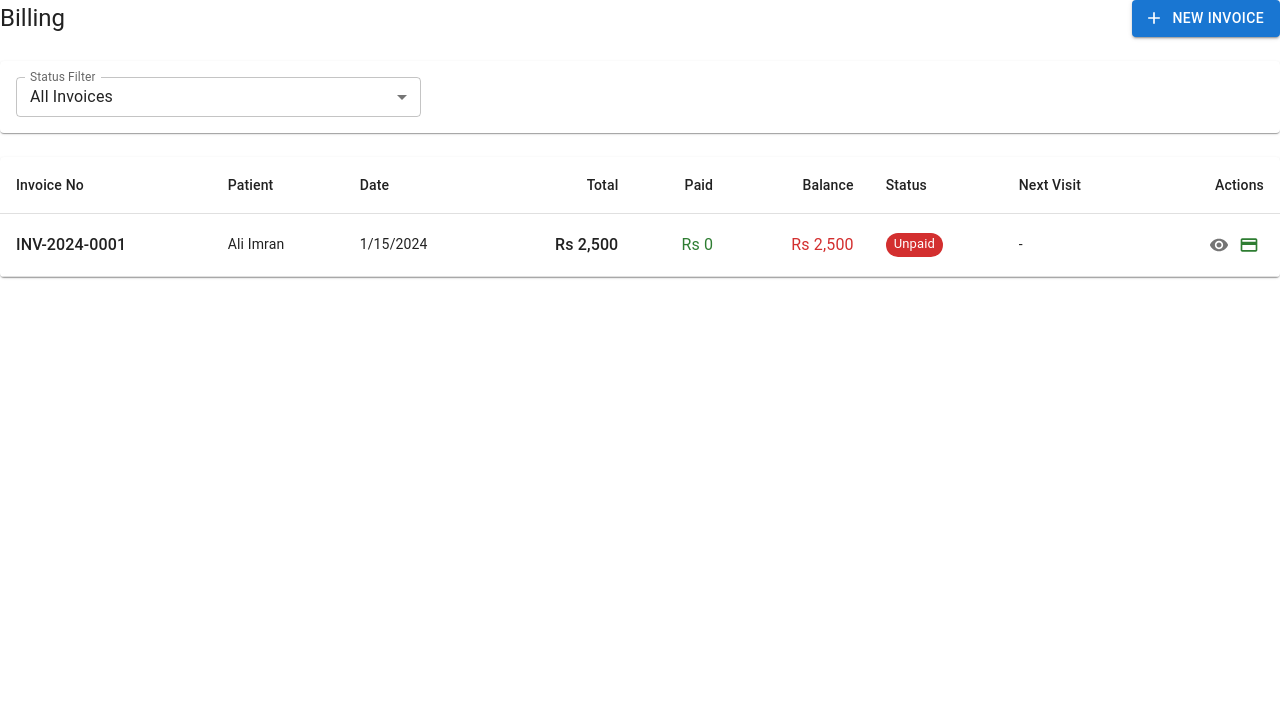
Test: Invoice Workflow Integration Tests › View Invoice Details › should open invoice details dialog when clicking view button
Expected: the text "INV-2024-0001" is shown, [16,234,126,254]
Click view button
Click the button named "view invoice".
click(1219, 244)  # box [1204,230,1234,260]
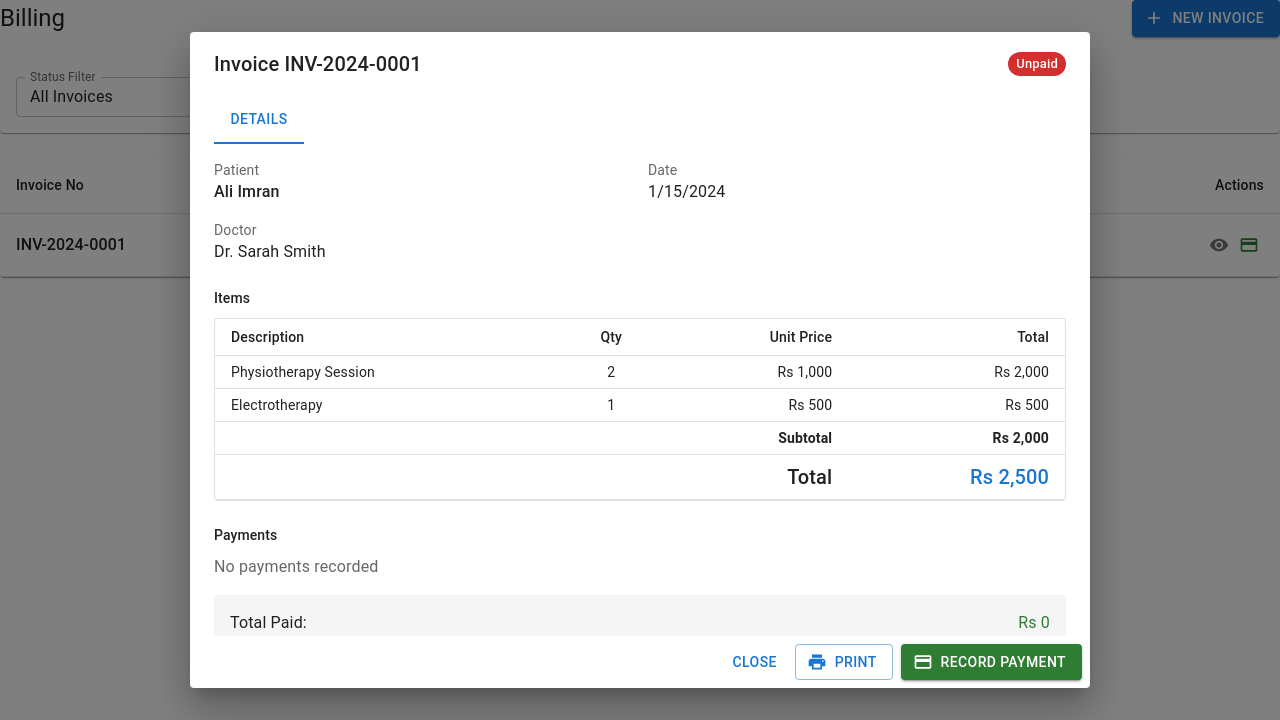
Expected: the text "Invoice INV-2024-0001" is shown, [214,48,422,80]
Expected: the text "Physiotherapy Session" is shown, [215,356,559,388]
Expected: the text "Electrotherapy" is shown, [215,388,559,422]
